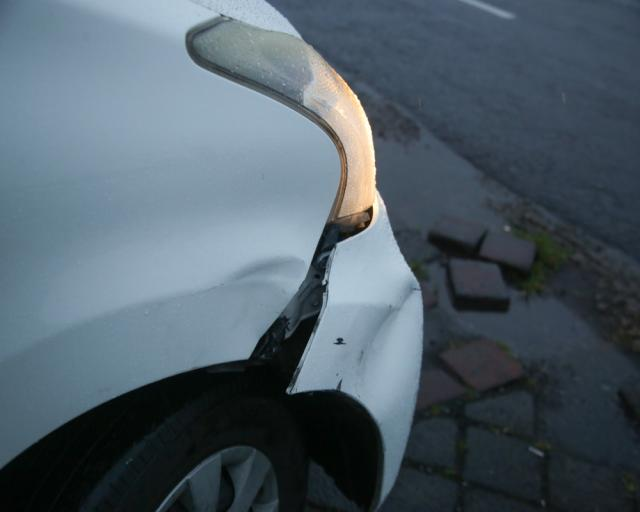dent: (356, 282, 420, 425), (230, 257, 304, 355)
scratch: (332, 334, 348, 393)
